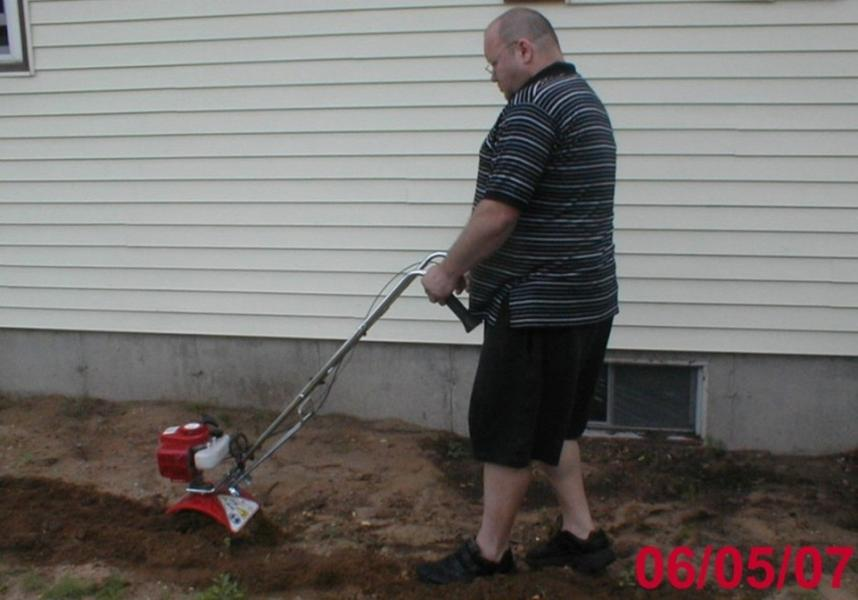person: (414, 10, 617, 582)
